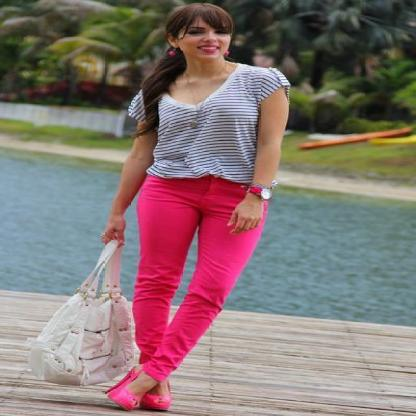bag: (22, 240, 135, 387)
pants: (132, 174, 263, 382)
shirt: (121, 63, 286, 180)
shoe: (107, 382, 174, 416)
